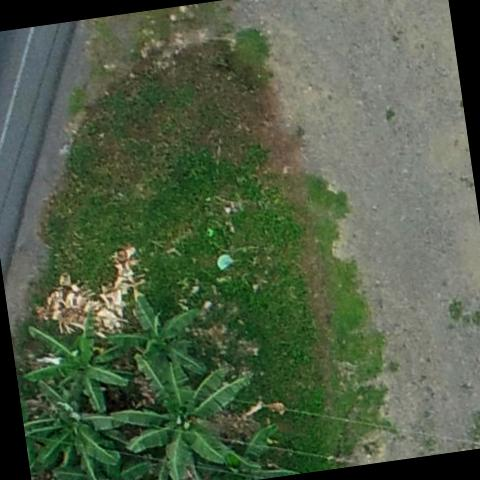Banana-plant: (108, 341, 261, 480), (19, 304, 133, 420), (18, 369, 134, 475), (107, 286, 208, 386)
